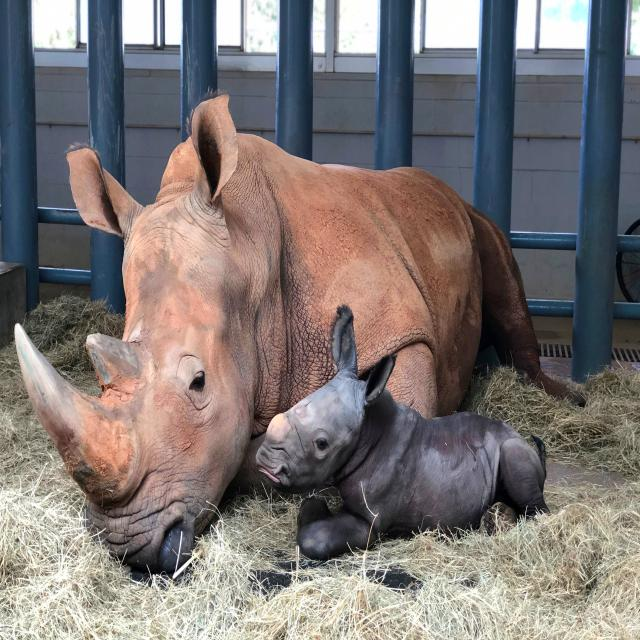rhinoceros: (15, 94, 564, 570), (256, 305, 547, 559)
